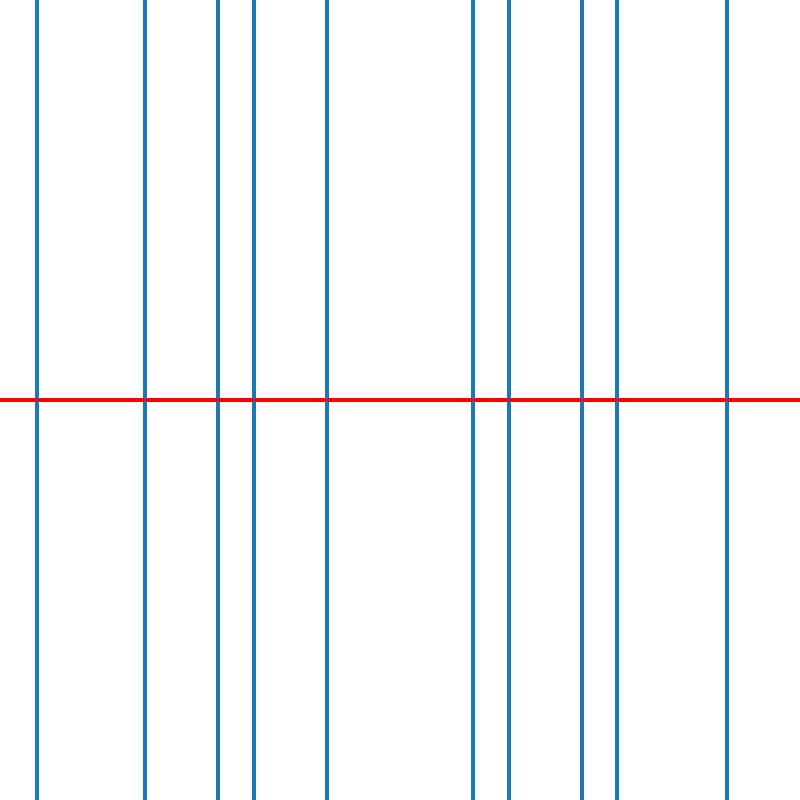root: (141, 396, 149, 404), (32, 396, 40, 404), (250, 396, 258, 404), (323, 396, 330, 404), (214, 396, 221, 404), (614, 396, 621, 404), (578, 396, 585, 404), (723, 396, 730, 404), (469, 396, 476, 404), (505, 396, 512, 404)
